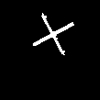single_crochet: (33, 13, 73, 54)
